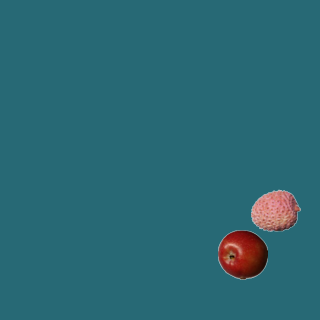Apple Braeburn: (217, 229, 267, 279)
Lychee: (250, 185, 300, 235)
